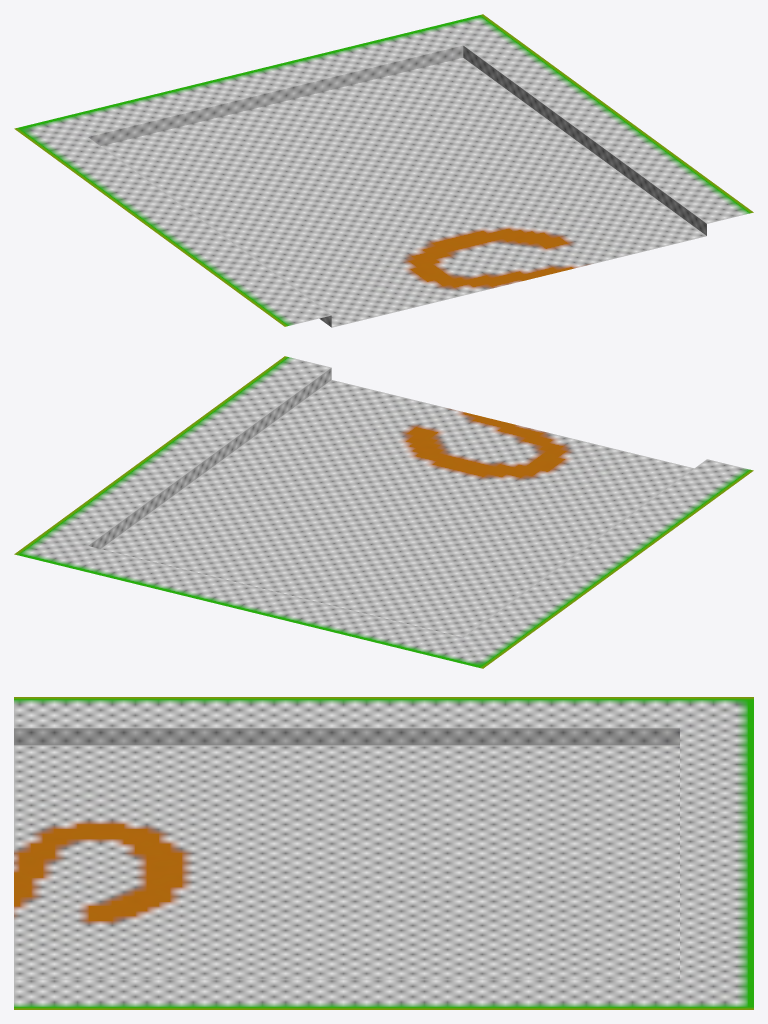
Rendered from Street_Close.fbx.
The picture shows the model from 3 angles, top to bottom: view 1: azimuth 30°, elevation 25°; view 2: azimuth 150°, elevation 25°; view 3: azimuth 270°, elevation 25°; orthographic projection. The views are drawn at different scales.
Parts seen in each view (by area): view 1: Street_Close; view 2: Street_Close; view 3: Street_Close.
Part boxes in pixels (x1,y1,x2,y2): Street_Close: (14,14,753,327); Street_Close: (14,356,753,668); Street_Close: (14,697,753,1009).
Size of the model in its own units: 1000 by 25 by 1000.
